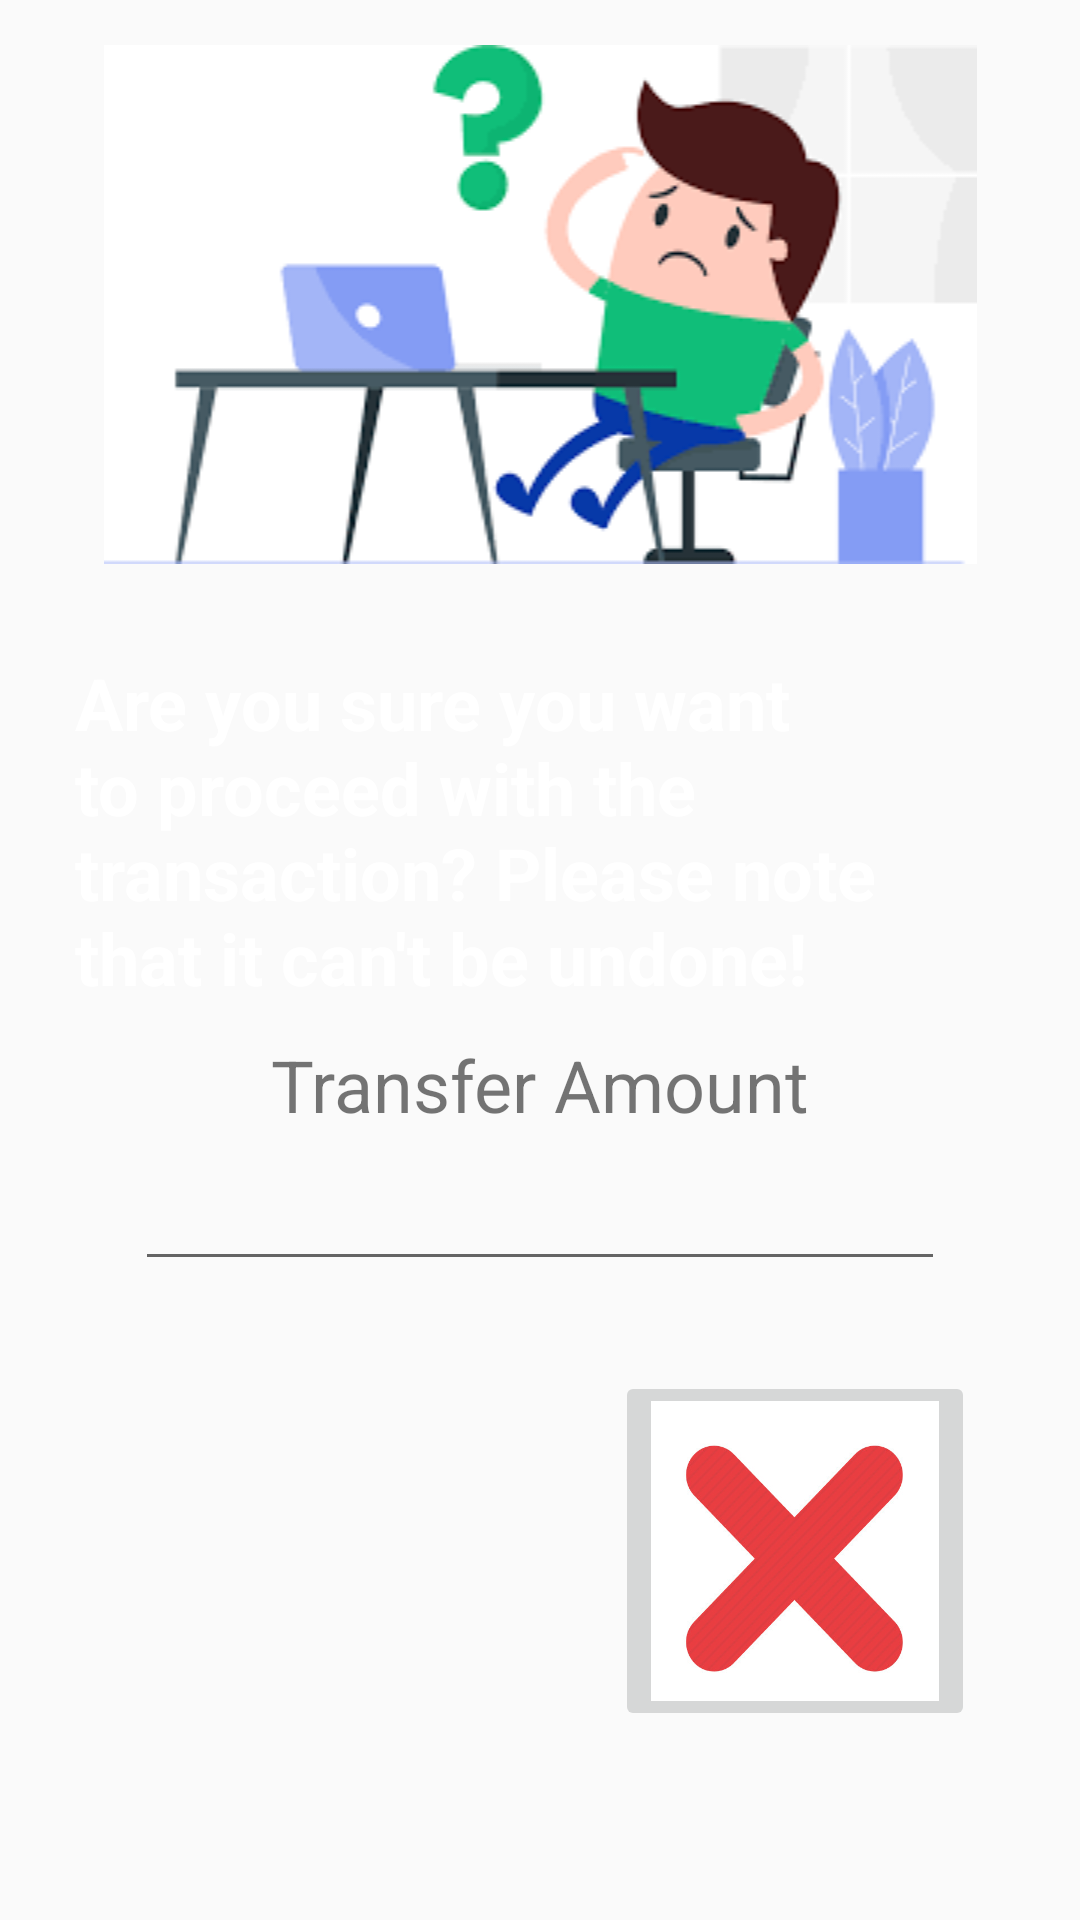

Icon click points for this 1080 × 1920 phone screenshot, format (x=x, y=y):
cancel: (x=795, y=1551)
